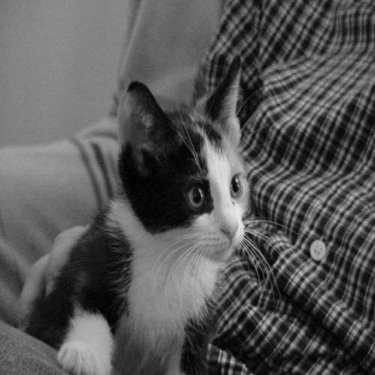cat: (2, 32, 249, 364)
